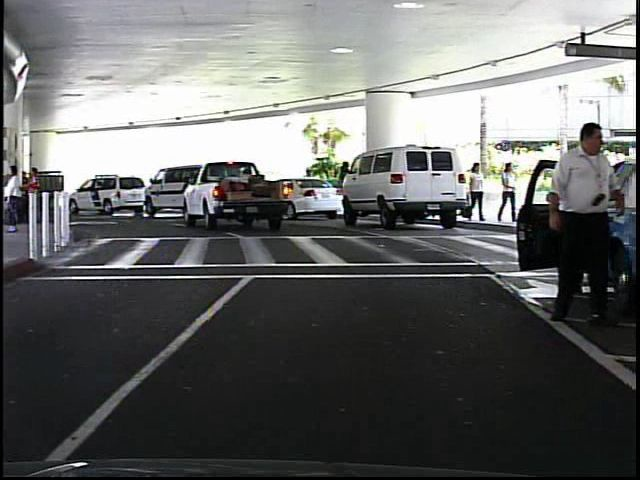person: (535, 112, 620, 330), (495, 160, 517, 226), (333, 157, 356, 218), (464, 158, 484, 226), (300, 166, 319, 212)
